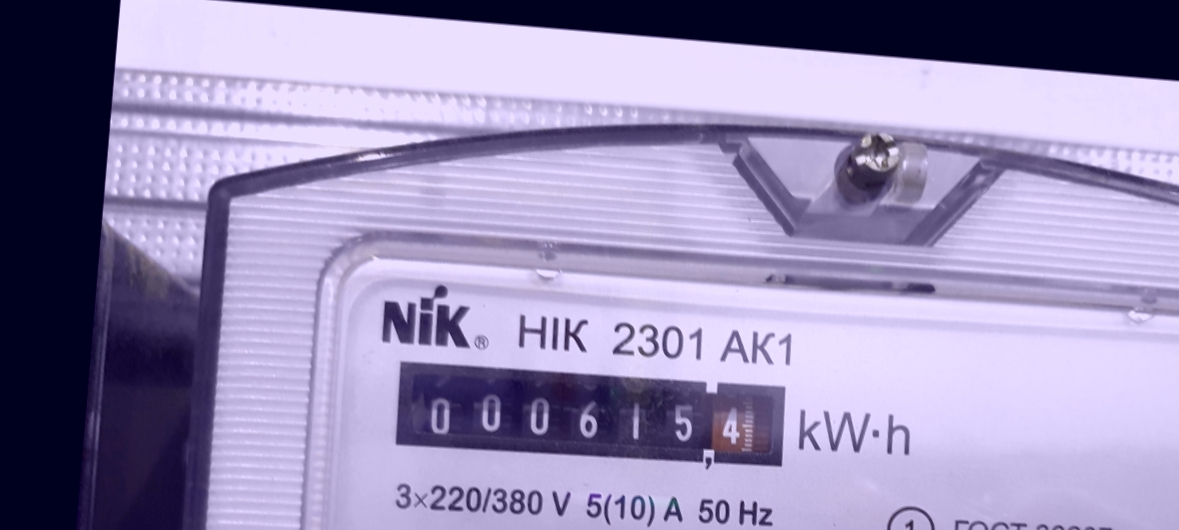0: (524, 393, 553, 438), (425, 393, 453, 436), (477, 391, 503, 432)
1: (627, 399, 644, 441)
4: (719, 403, 741, 446)
5: (669, 400, 696, 444)
6: (574, 397, 601, 440)
screen: (378, 342, 801, 489)
